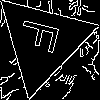F: (18, 16, 69, 57)
